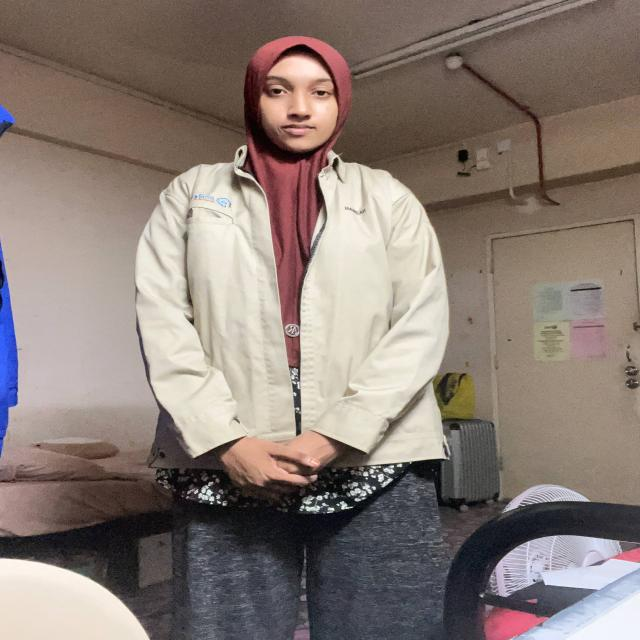person_with_labcoat: (135, 37, 448, 640)
